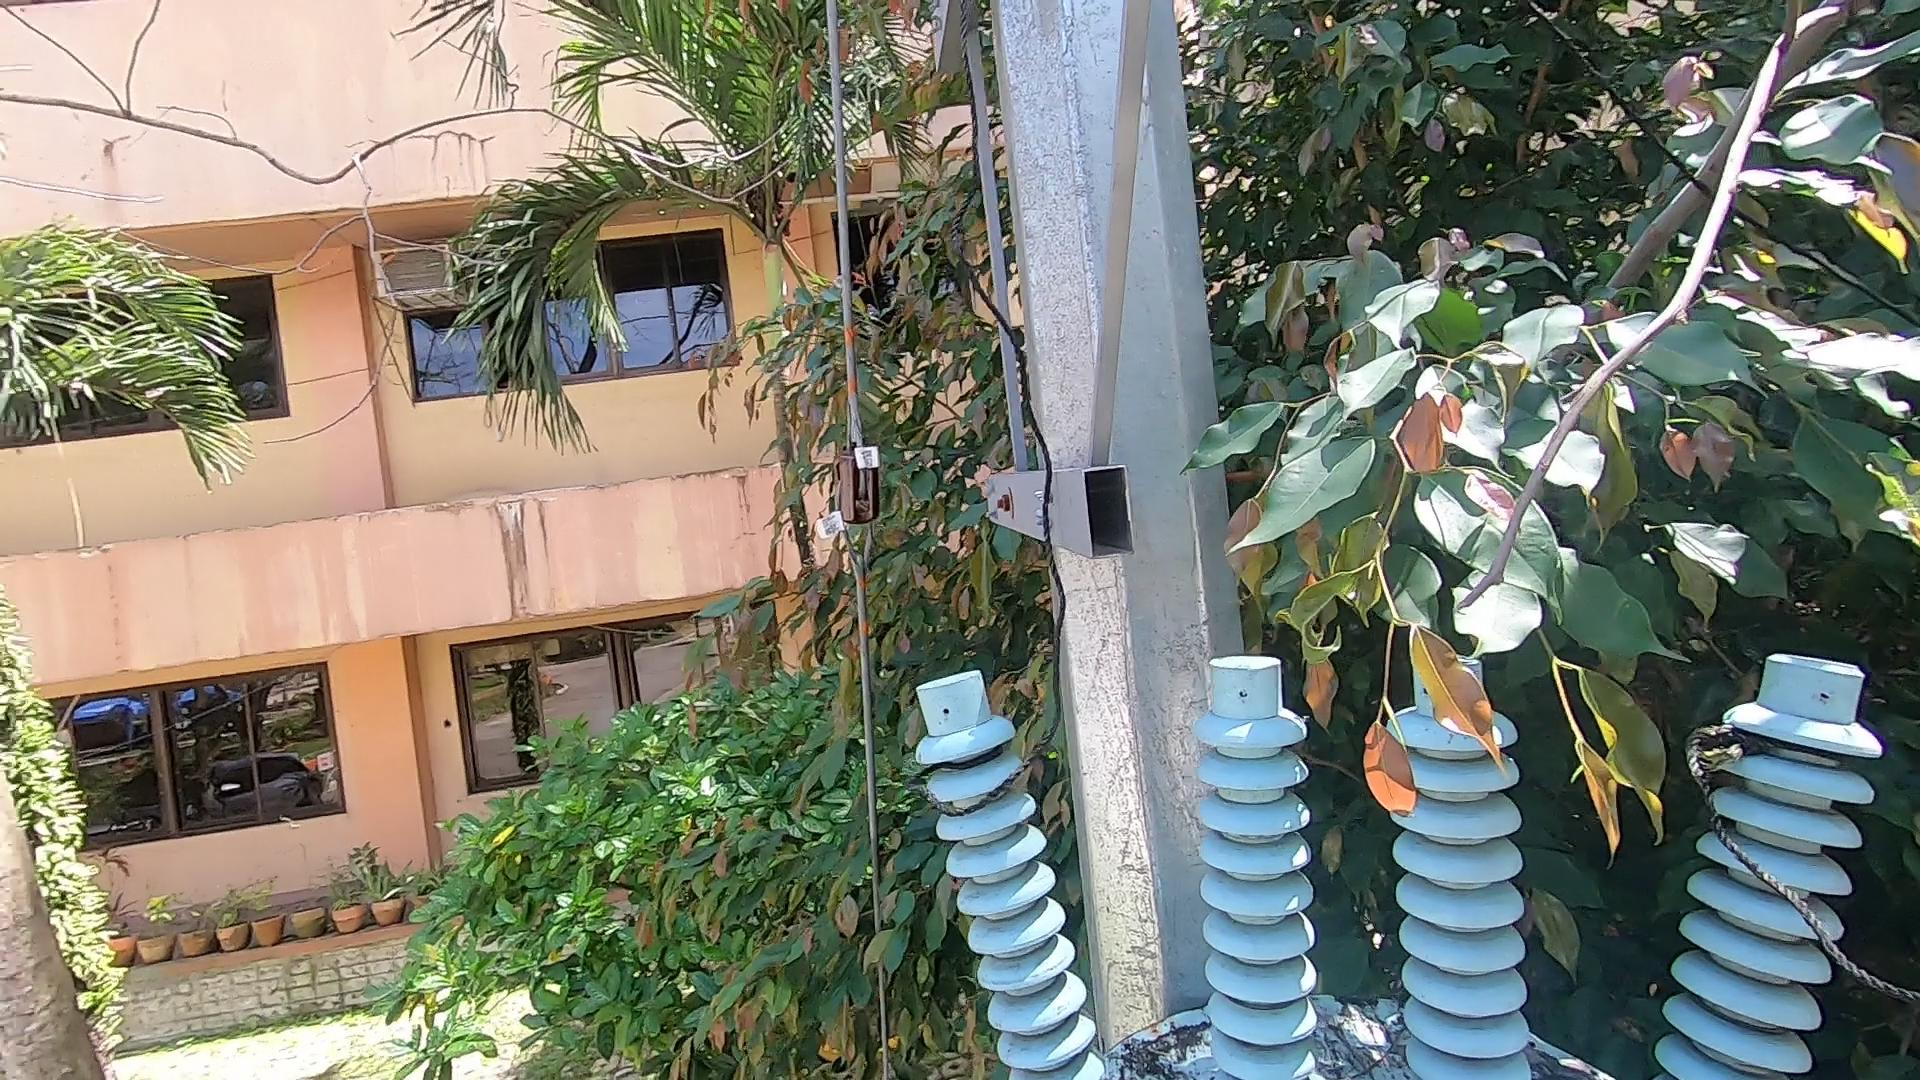tree branch: (1451, 1, 1842, 628)
